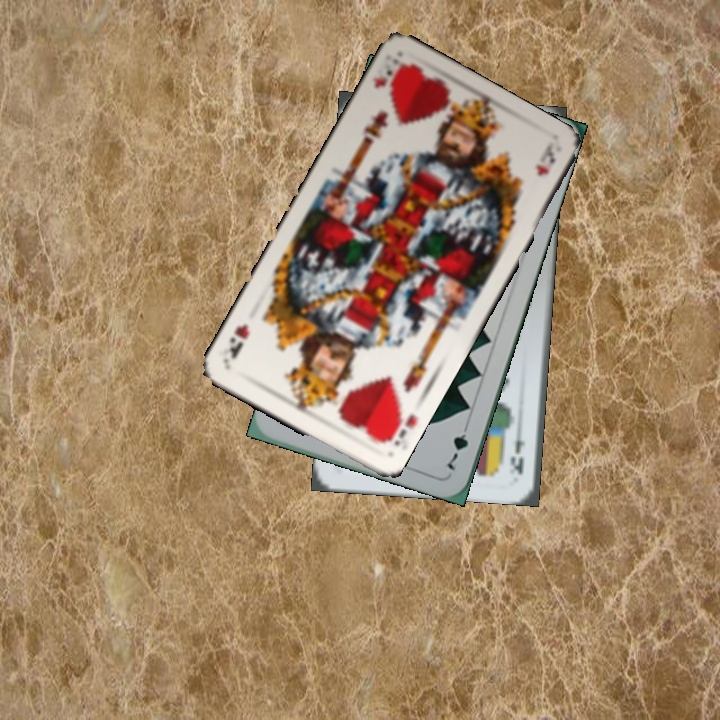EK: (506, 419, 528, 478)
G7: (443, 417, 472, 473)
HK: (377, 398, 420, 449), (369, 52, 408, 97)
